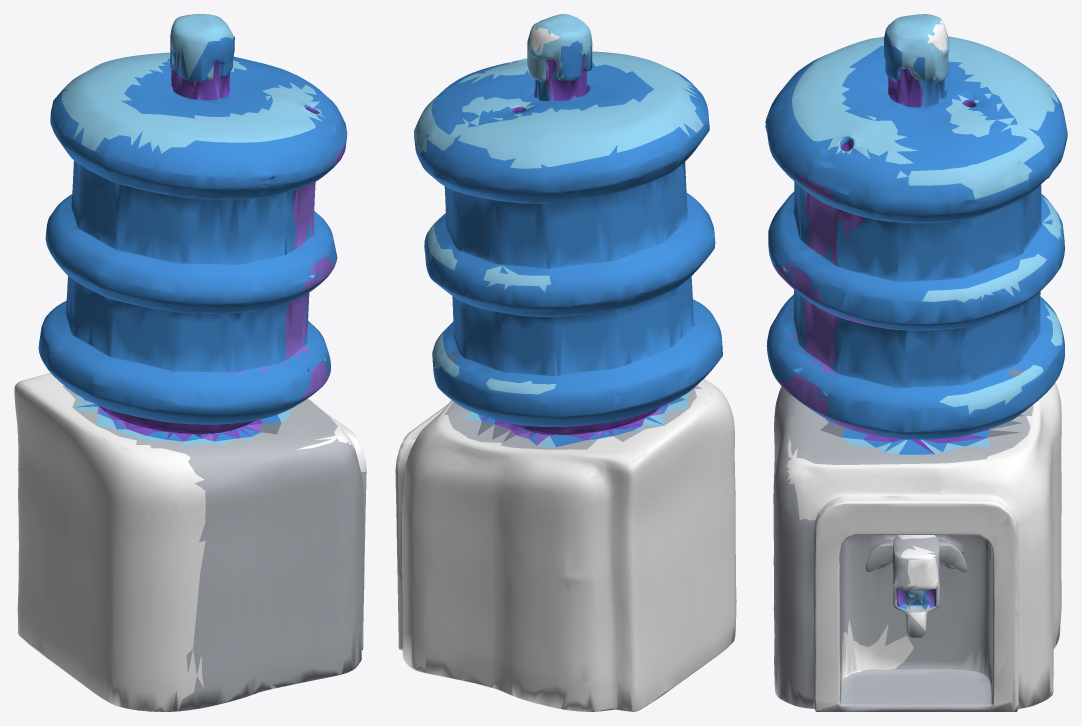
File: SM_water_dispenser.glb
The picture shows the model from 3 angles, left to right: view 1: azimuth 30°, elevation 25°; view 2: azimuth 150°, elevation 25°; view 3: azimuth 270°, elevation 25°; orthographic projection. The views are drawn at different scales.
Parts seen in each view (by area): view 1: SM_water_dispenser; view 2: SM_water_dispenser; view 3: SM_water_dispenser.
Part boxes in pixels (bbox=[...]): SM_water_dispenser: bbox=[14, 14, 366, 711]; SM_water_dispenser: bbox=[395, 14, 736, 711]; SM_water_dispenser: bbox=[765, 14, 1067, 711].
Size of the model in its own units: 0.4558 by 1 by 0.432.
Materials: 1 (1 with a texture image).
